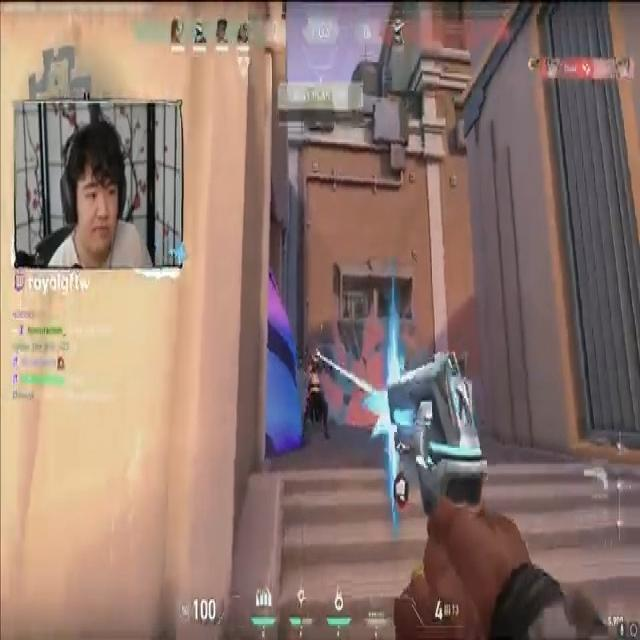smoke: (268, 271, 300, 456)
